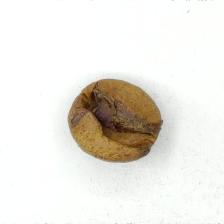NG: (79, 85, 152, 155)
